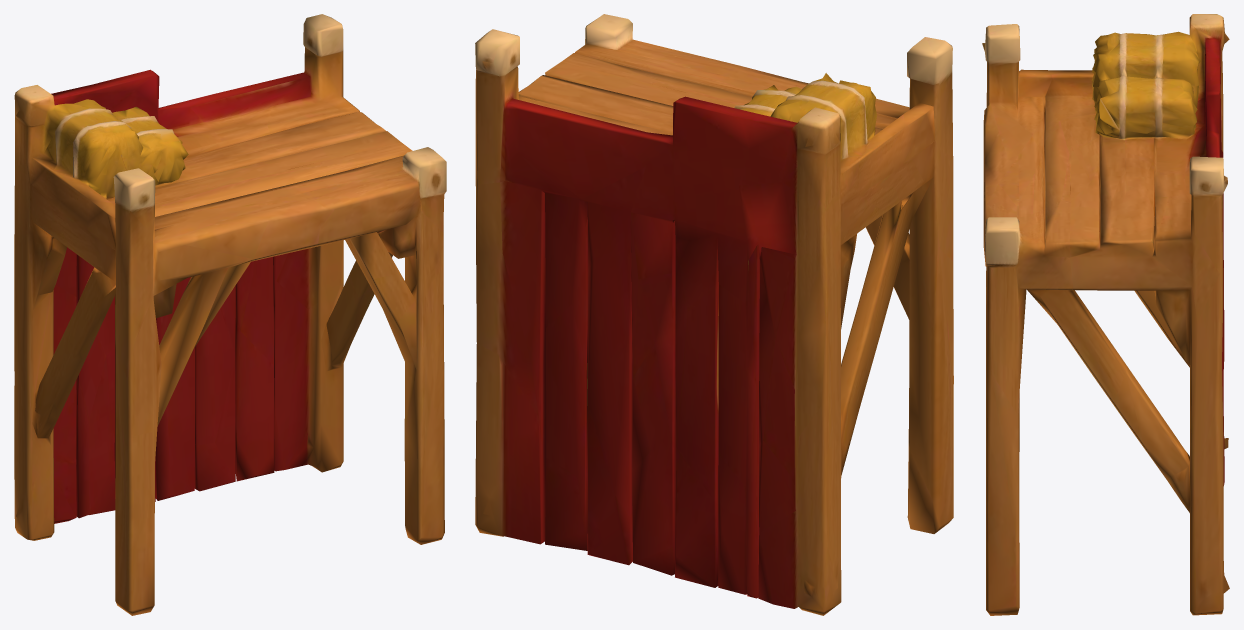
File: hayloft.glb
3 renders of one model, left to right at view 1: azimuth 30°, elevation 25°; view 2: azimuth 150°, elevation 25°; view 3: azimuth 270°, elevation 25°, orthographic. The views are drawn at different scales.
Parts seen in each view (by area): view 1: tripo_node_ece4b2d5-a3da-4a09-a399-ffc5f2e4fbad; view 2: tripo_node_ece4b2d5-a3da-4a09-a399-ffc5f2e4fbad; view 3: tripo_node_ece4b2d5-a3da-4a09-a399-ffc5f2e4fbad.
Part boxes in pixels (<box>): tripo_node_ece4b2d5-a3da-4a09-a399-ffc5f2e4fbad: <box>14,14,446,615</box>; tripo_node_ece4b2d5-a3da-4a09-a399-ffc5f2e4fbad: <box>475,14,953,615</box>; tripo_node_ece4b2d5-a3da-4a09-a399-ffc5f2e4fbad: <box>982,14,1229,615</box>.
Bounding box in the file's own units: 1.8 × 2.34 × 1.17.
Materials: 1 (1 with a texture image).
